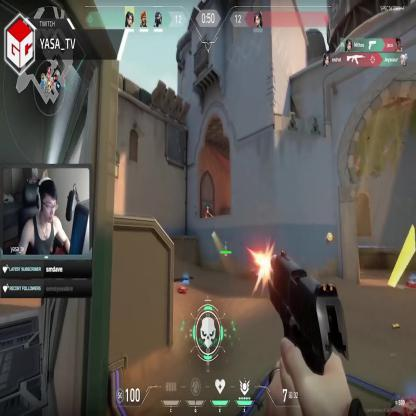enemy: (204, 204, 210, 233)
enemy_head: (206, 206, 210, 214)
